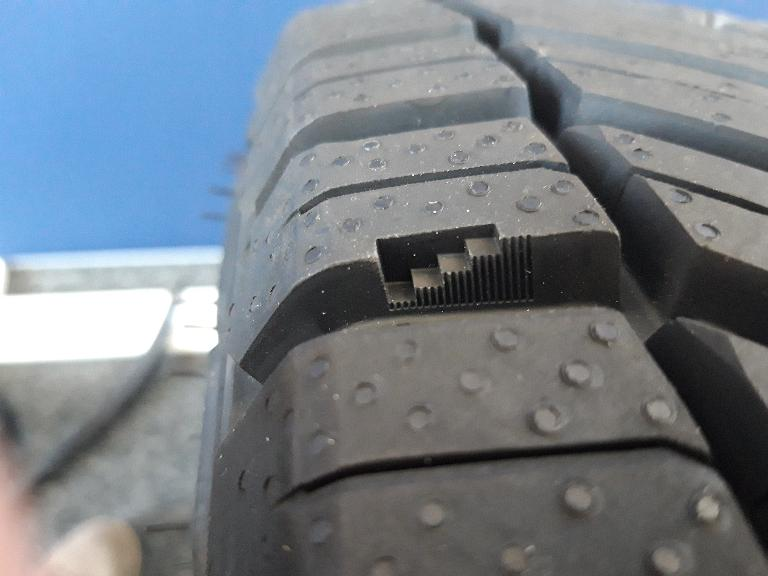temoin:100: (366, 216, 543, 320)
